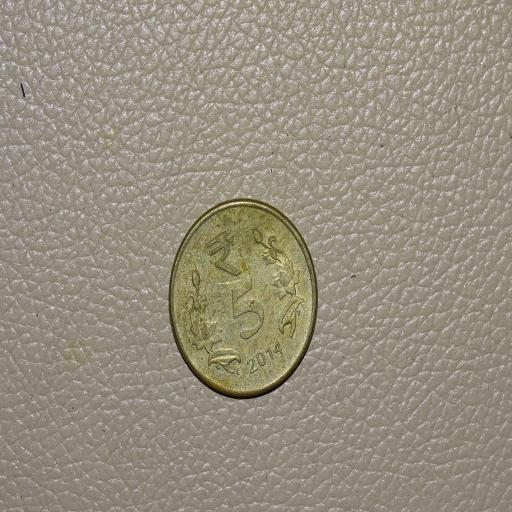rupee5: (162, 197, 319, 402)
